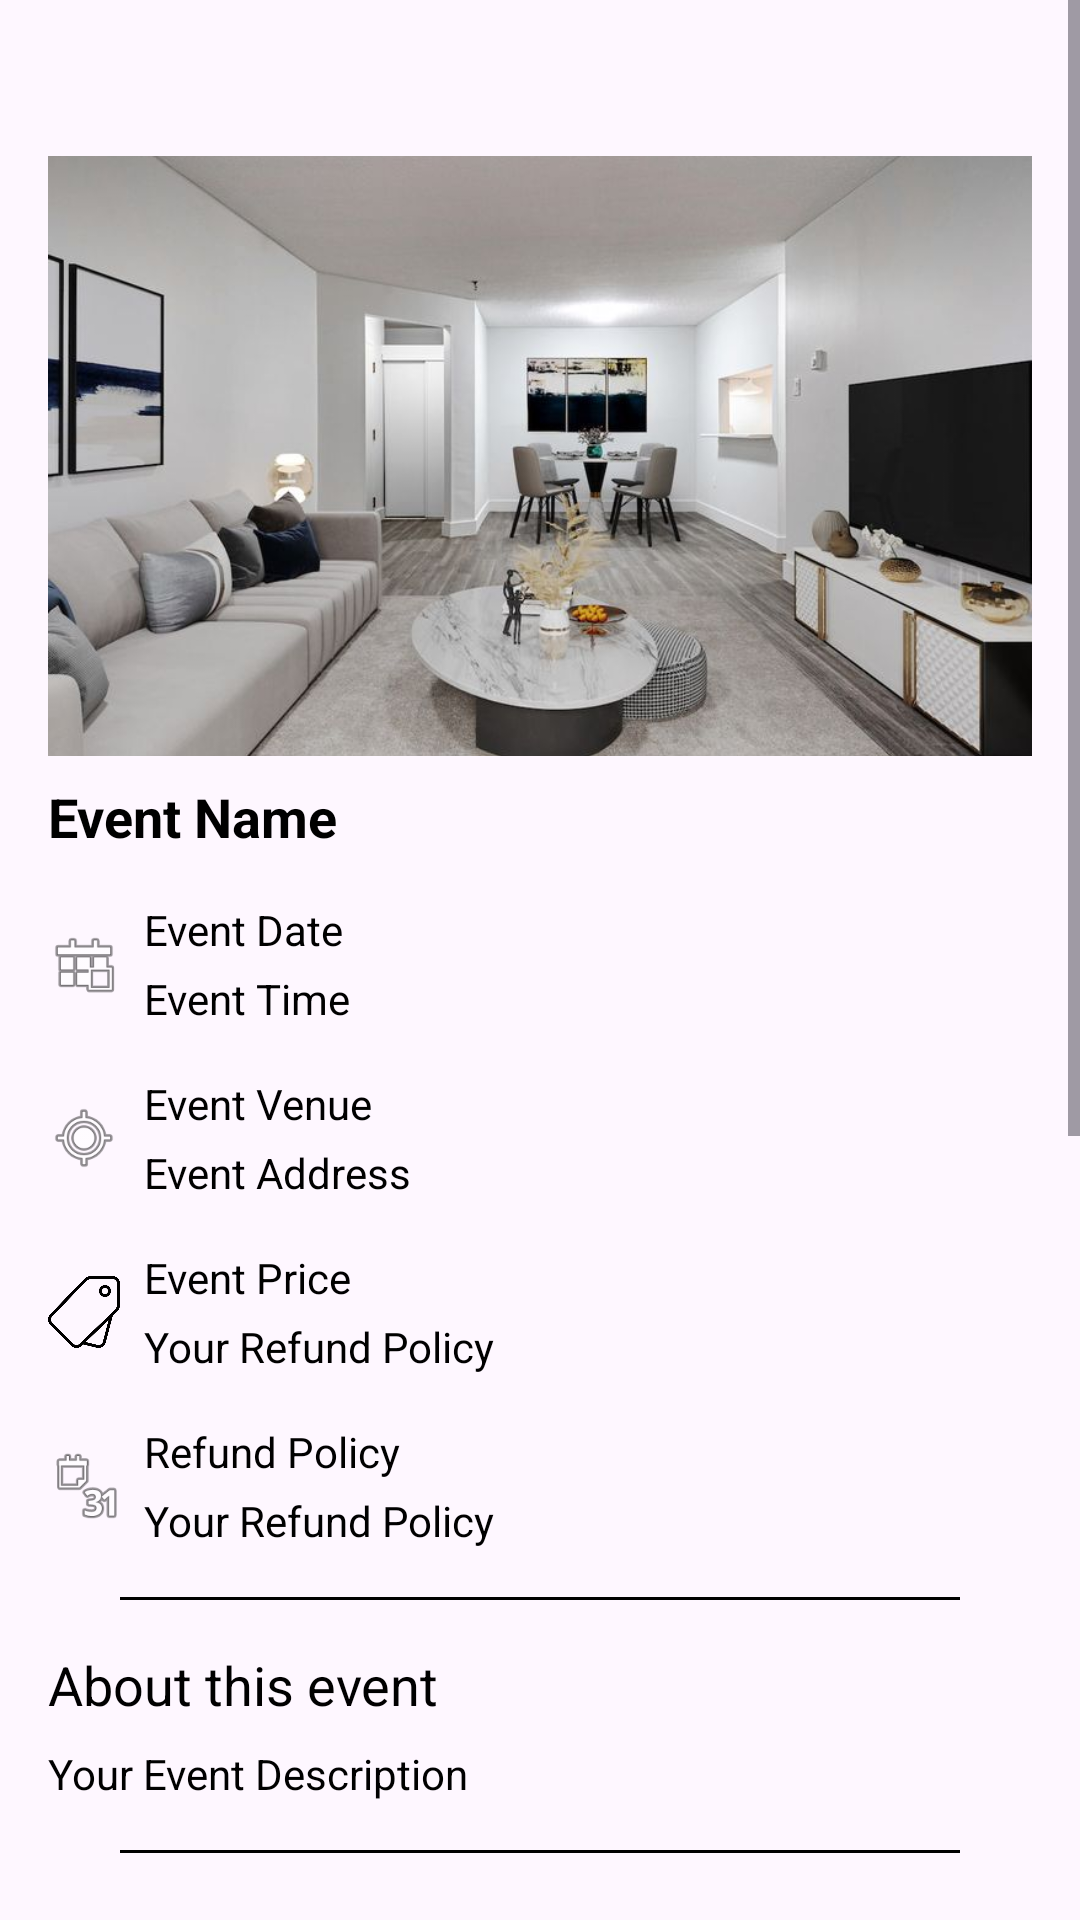

Icon bounding boxes for this 1080×1920 phone screenshot, format (x1, y1, x2, y2):
month: (56, 1454, 117, 1518)
mylocation: (55, 1109, 113, 1167)
price tag: (48, 1276, 120, 1348)
today: (55, 938, 114, 993)
